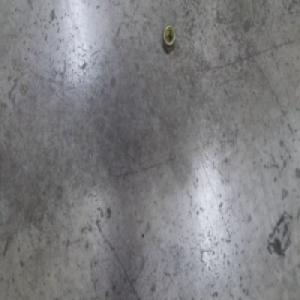Nut: (161, 17, 175, 49)
